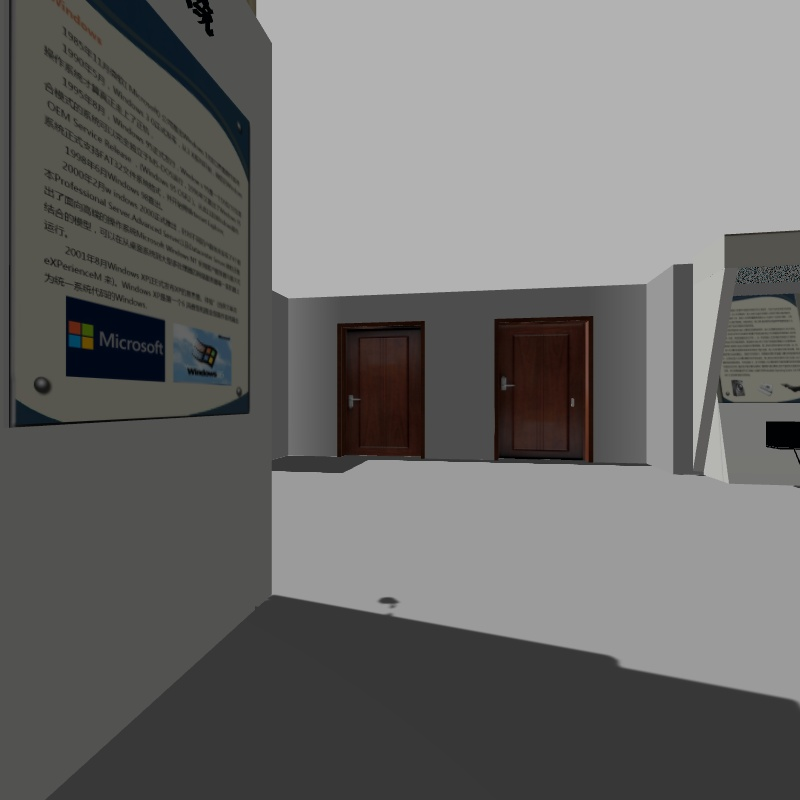handle: (341, 386, 365, 410), (497, 369, 517, 394)
